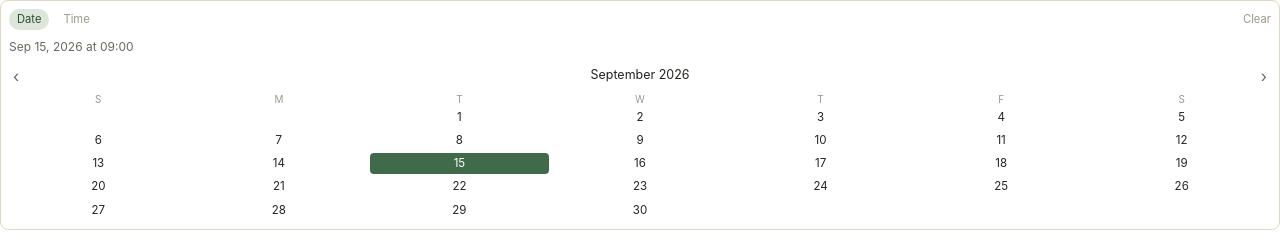
Test case: DateTimePicker › with a value already set, the Time tab shows hour/minute selects and changing them preserves the date
Step 1. Click the button "Time" → click(77, 19), box [55, 9, 98, 30]
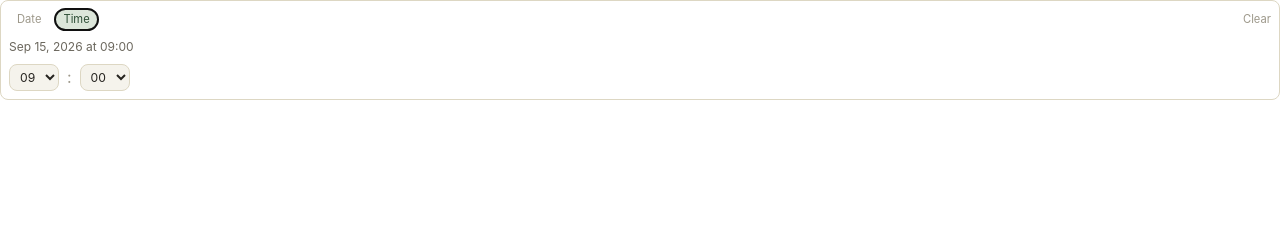
Step 2. Select "14" in the dropdown named "Hour" → (34, 77), box [9, 64, 59, 91]
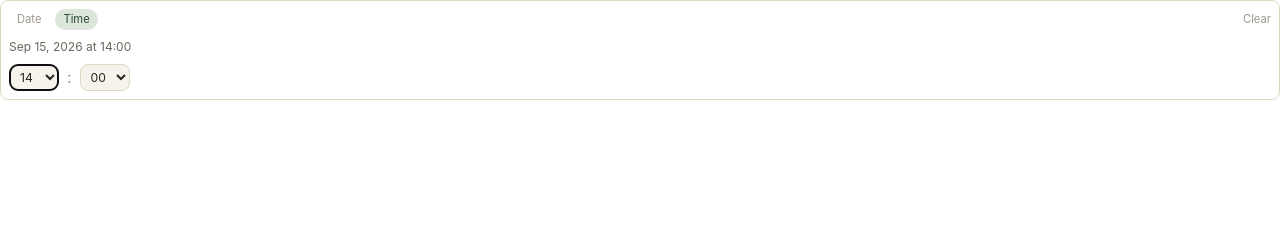
Step 3. Select "30" in the dropdown named "Minute" → (105, 77), box [80, 64, 130, 91]
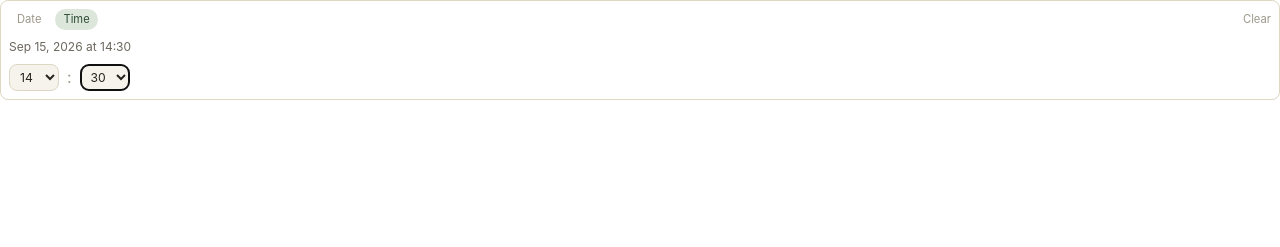
Expected: the text "Sep 15, 2026 at 14:30" is shown, [9, 39, 131, 54]
